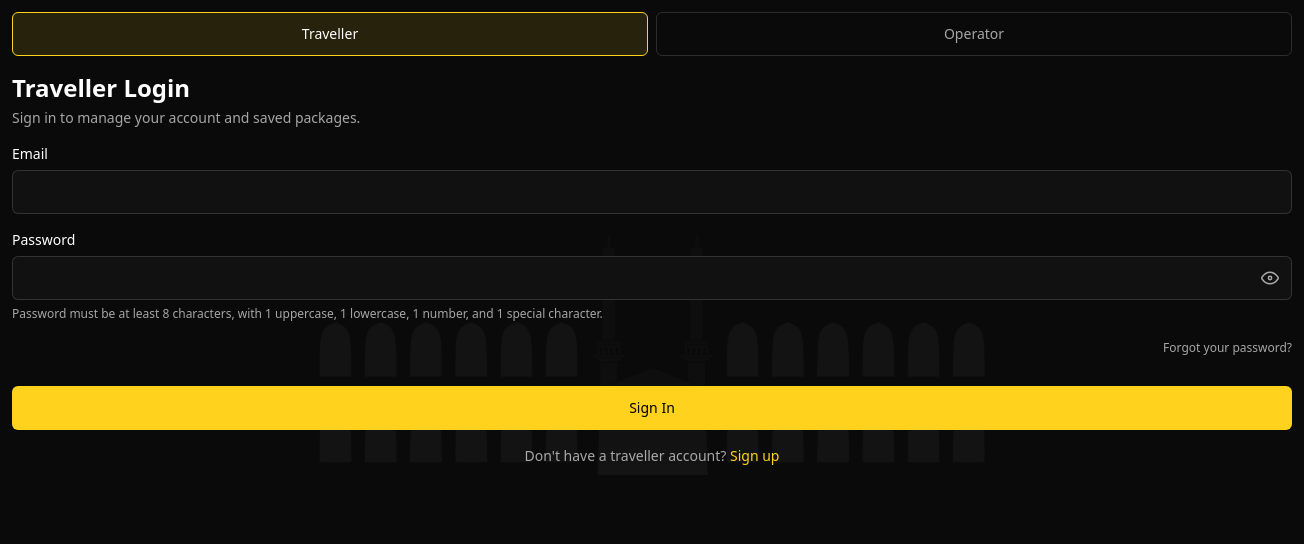
Test: LoginForm › shows error on failed login
In the field with test id "login-email": (652, 192) left=12, top=170, right=1292, bottom=214, type "test@example.com"
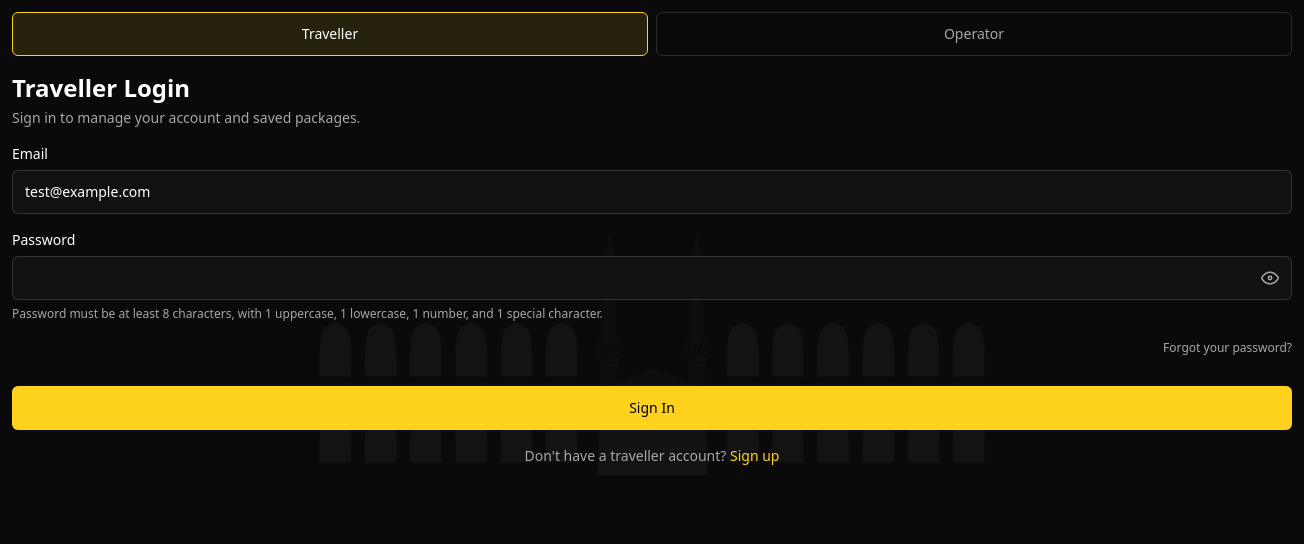
In the password field with test id "login-password": (652, 278) left=12, top=256, right=1292, bottom=300, type "wrong"
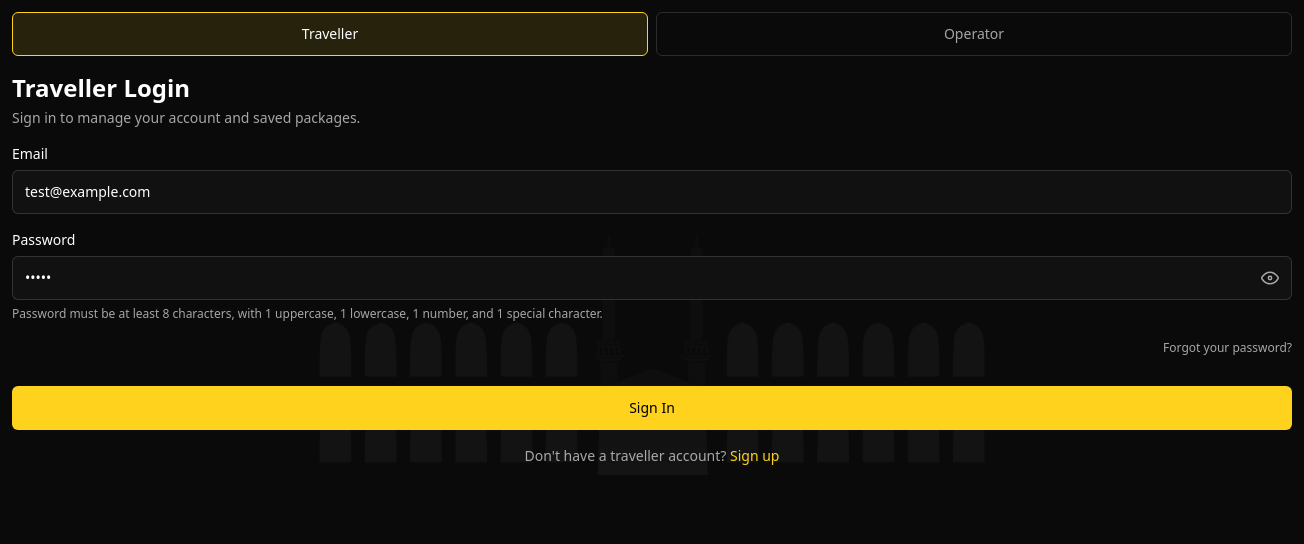
Click the button with test id "login-submit": (652, 408) left=12, top=386, right=1292, bottom=430
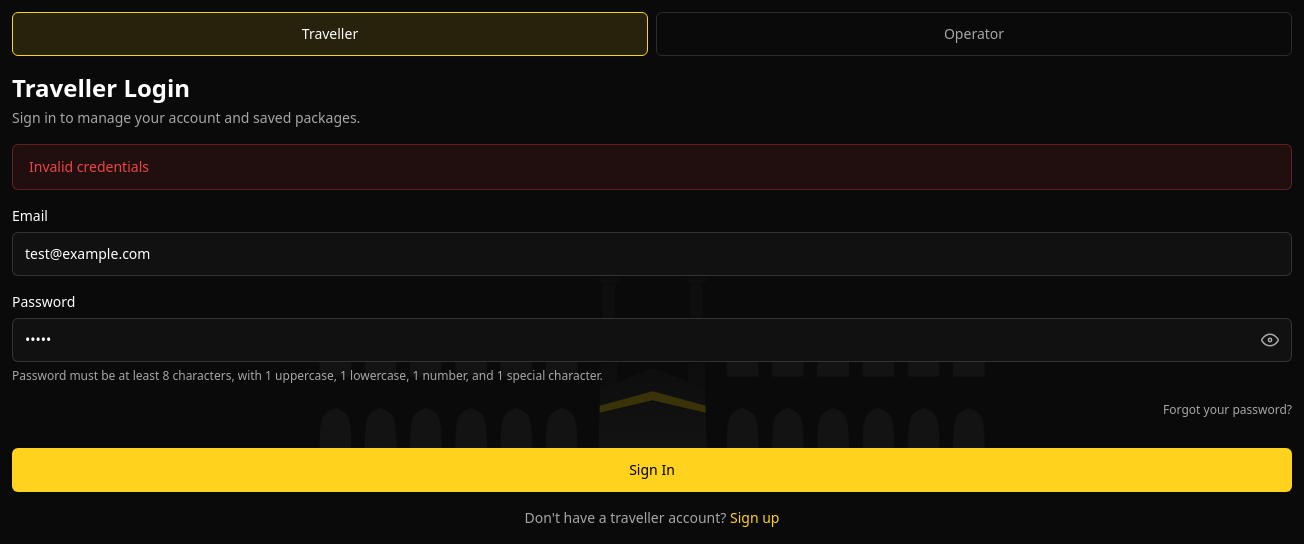
Check: the message with test id "login-error" reads "Invalid credentials", box left=29, top=157, right=149, bottom=176
